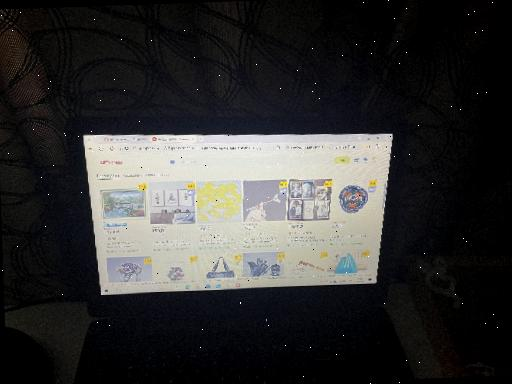aliexpress: (86, 148, 394, 284)
